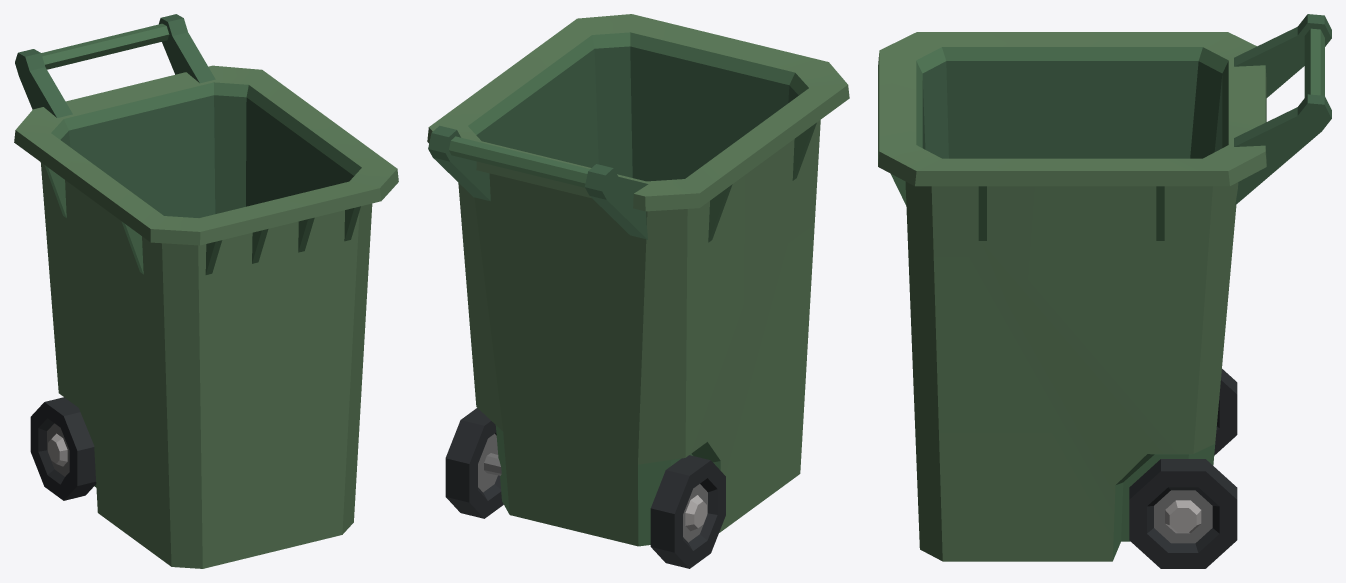
The model's file is SM_Prop_RubbishBin_02.obj.
3 renders of one model, left to right at view 1: azimuth 30°, elevation 25°; view 2: azimuth 150°, elevation 25°; view 3: azimuth 270°, elevation 25°, orthographic. The views are drawn at different scales.
Parts seen in each view (by area): view 1: SM_Prop_RubbishBin_02_0; view 2: SM_Prop_RubbishBin_02_0; view 3: SM_Prop_RubbishBin_02_0.
Boxes of the visible parts, x1,y1,x2,y2 form: SM_Prop_RubbishBin_02_0: [14, 14, 398, 568]; SM_Prop_RubbishBin_02_0: [427, 14, 849, 568]; SM_Prop_RubbishBin_02_0: [878, 14, 1331, 568].
Size of the model in its own units: 0.7405 by 1.12 by 1.02.
1 material, 1 textured.
